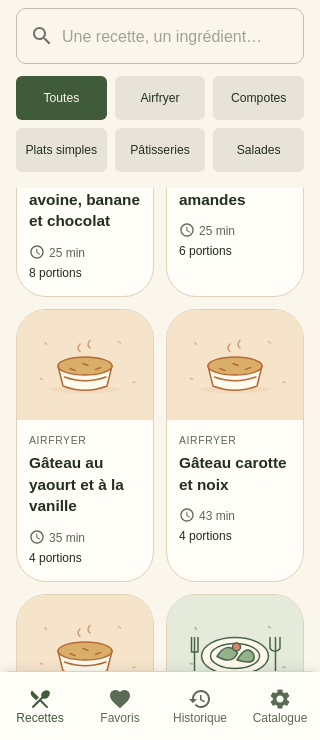
Test: Usage mobile et tablette › reste lisible sans débordement à 320 × 740
The image size is (320, 740).
(page scrolled)
Click the button "Airfryer Gâteau au yaourt et à la vanille 35 min 4 portions": (85, 446) [17,310,153,581]
(page scrolled)
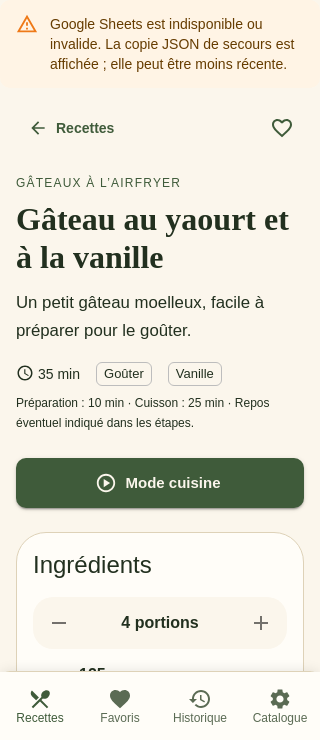
Expected: the heading "Gâteau au yaourt et à la vanille" is shown, [16,200,304,277]
Click the button "Mode cuisine": (160, 483) [16,458,304,508]
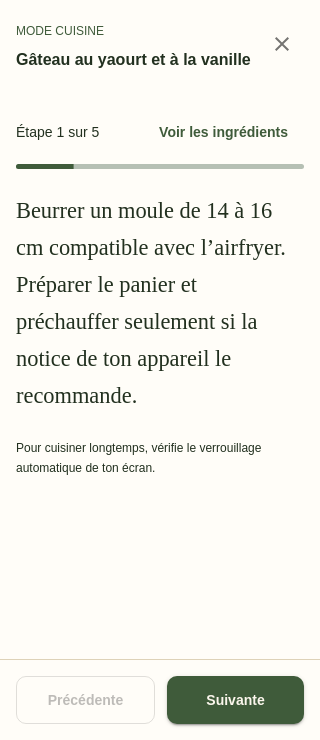
Expected: the dialog is shown
